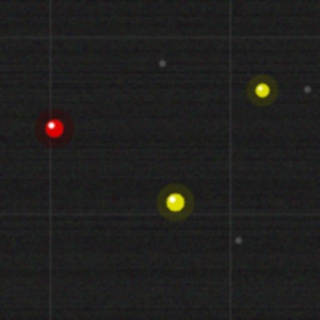red_fault: (43, 117, 65, 139)
yellow_warning: (164, 191, 186, 213), (253, 81, 271, 99)
